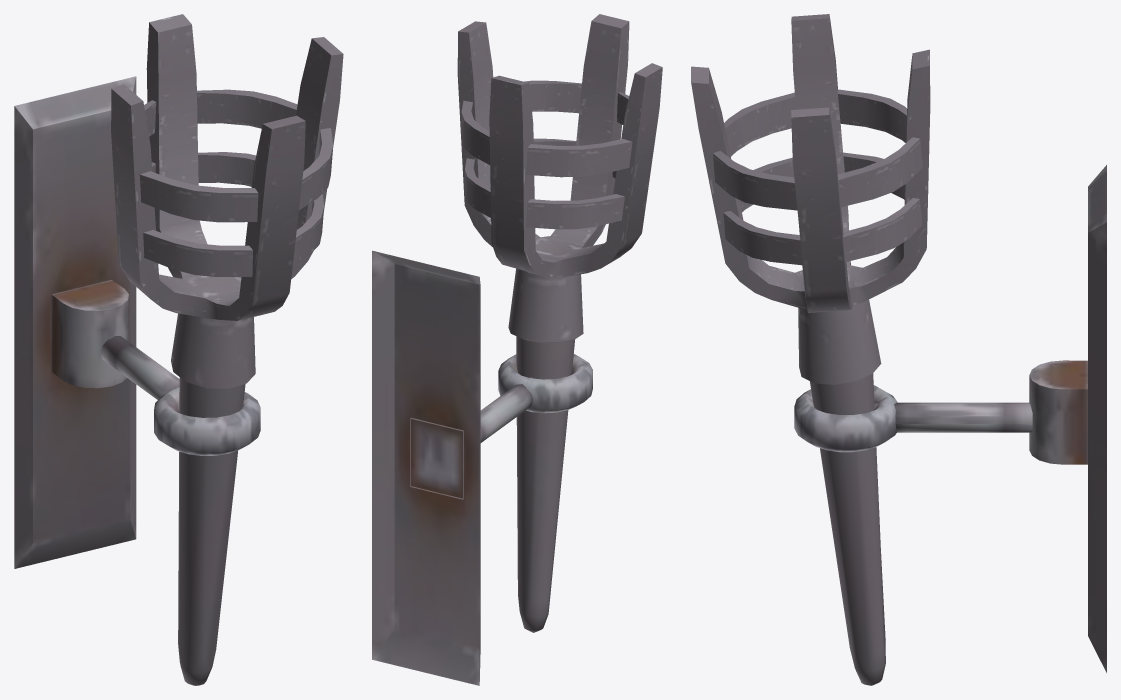
File: torch-metal.glb
3 renders of one model, left to right at view 1: azimuth 30°, elevation 25°; view 2: azimuth 150°, elevation 25°; view 3: azimuth 270°, elevation 25°, orthographic. The views are drawn at different scales.
Parts seen in each view (by area): view 1: Torch_Metal; view 2: Torch_Metal; view 3: Torch_Metal.
Boxes of the visible parts, box(x1,y1,x2,y2) form: Torch_Metal: box(14, 14, 343, 685); Torch_Metal: box(372, 14, 662, 685); Torch_Metal: box(691, 14, 1106, 685).
Bounding box in the file's own units: 0.2232 × 0.6482 × 0.3884.
Materials: 1 (1 with a texture image).
